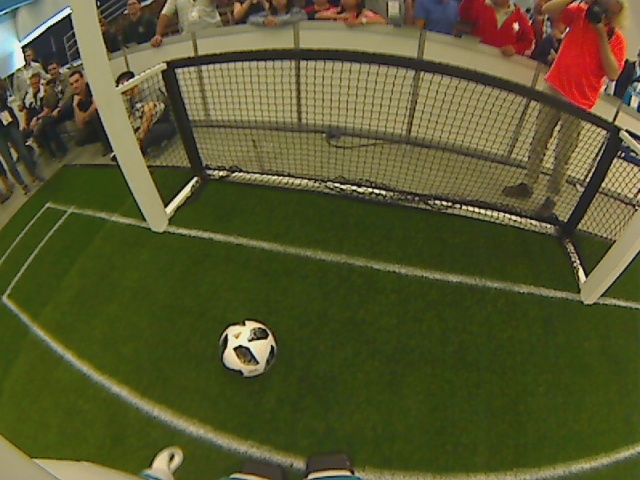ball: (215, 318, 277, 376)
